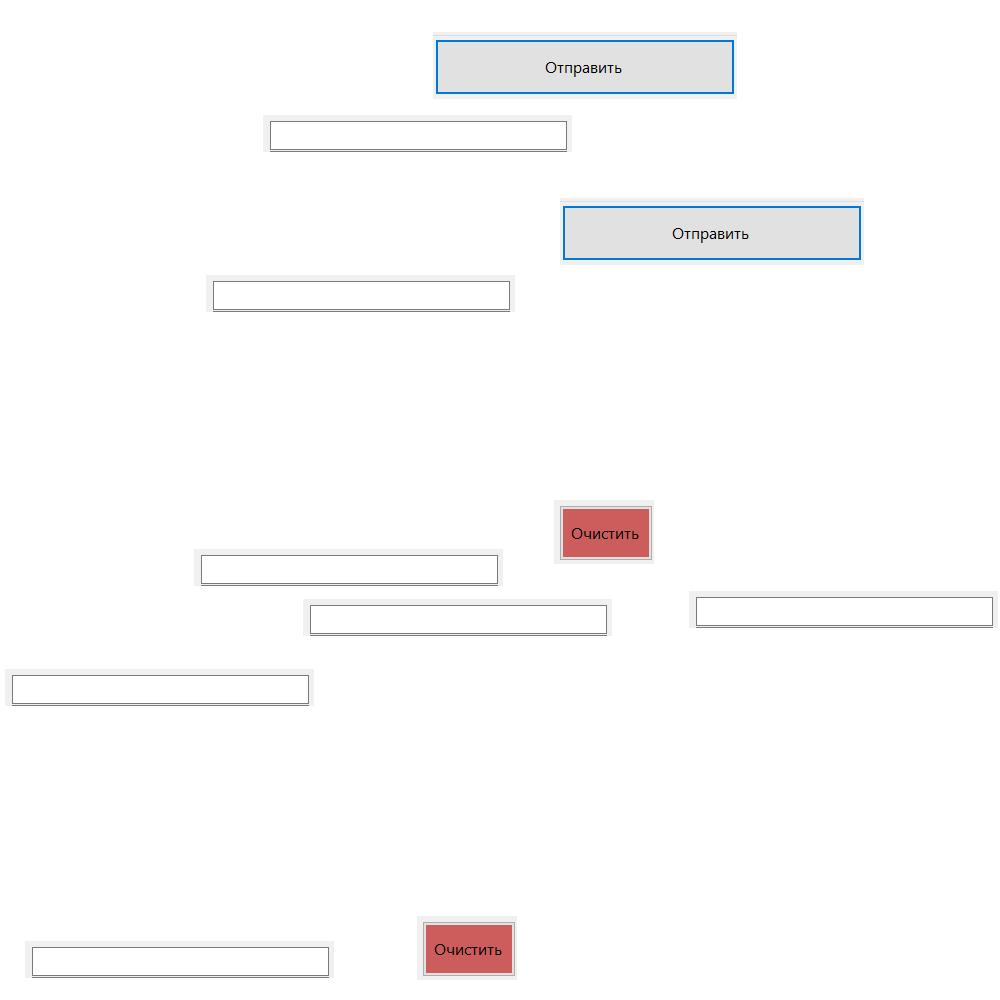Button: (433, 32, 737, 99), (560, 198, 864, 265), (554, 500, 654, 564), (417, 916, 517, 980)
EditText-: (206, 275, 515, 312), (25, 941, 334, 978), (263, 115, 572, 152), (194, 549, 503, 586), (303, 599, 612, 636), (5, 669, 314, 706), (689, 591, 998, 628)
